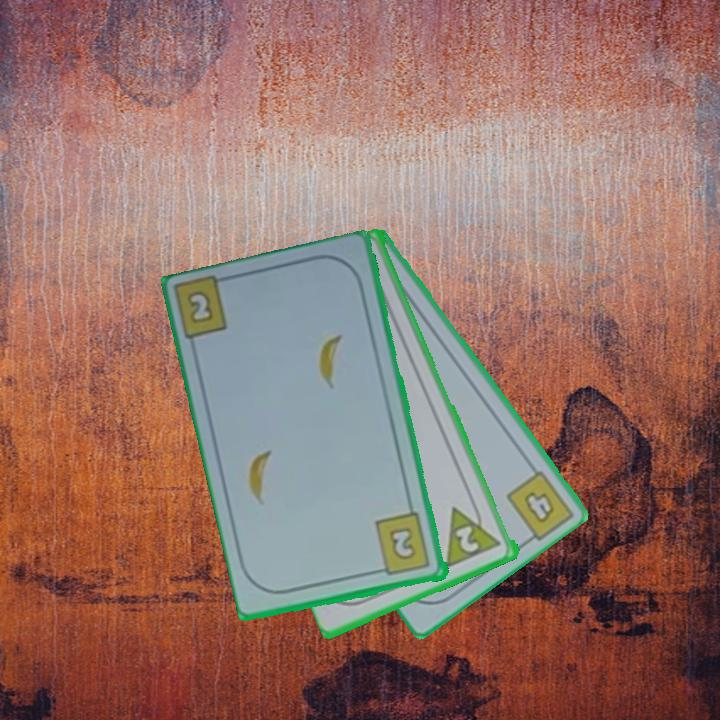2b: (172, 274, 236, 346), (372, 510, 434, 579)
2p: (452, 522, 483, 556)
4b: (520, 487, 559, 527)
